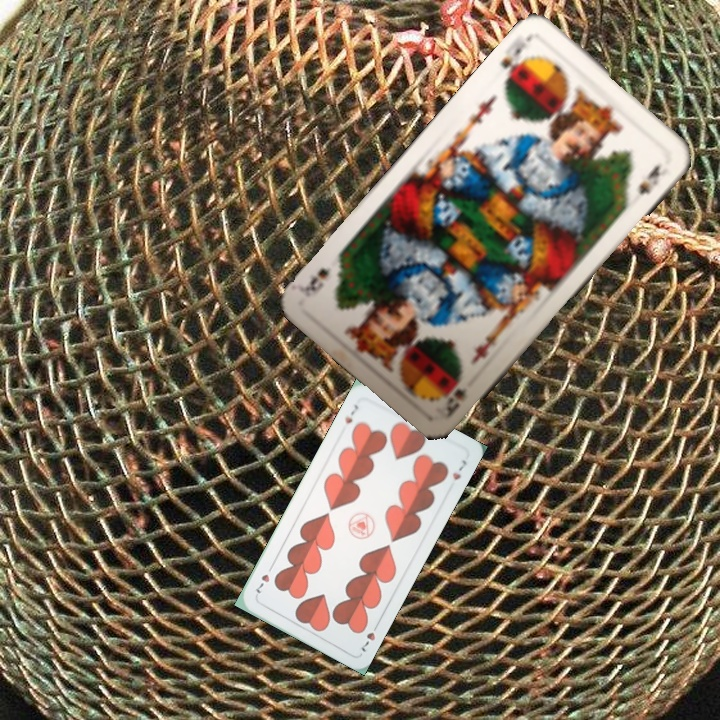H7: (357, 618, 382, 655), (341, 400, 361, 426)
SK: (496, 43, 532, 87), (433, 384, 469, 423)
